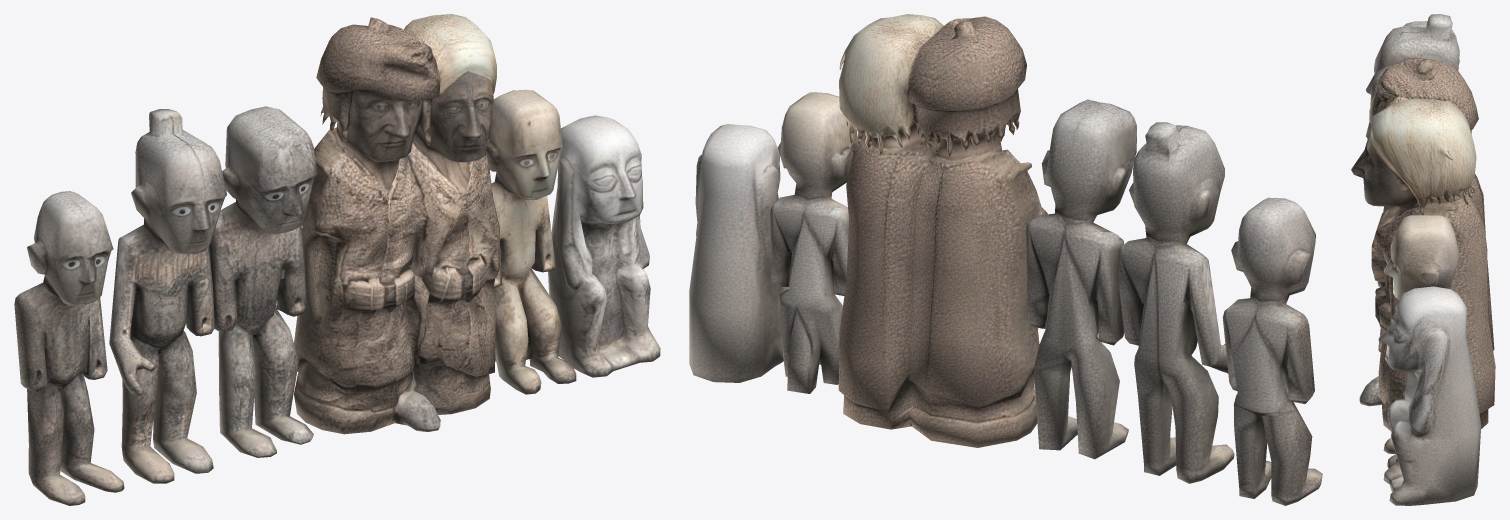
Rendered from papua.glb.
3 views of the same model, side by side, from view 1: azimuth 30°, elevation 25°; view 2: azimuth 150°, elevation 25°; view 3: azimuth 270°, elevation 25° (orthographic). The views are drawn at different scales.
Visible parts, largest first — view 1: tripo_node_40be4871-0594-4298-8c4a-cd686c88fd24; view 2: tripo_node_40be4871-0594-4298-8c4a-cd686c88fd24; view 3: tripo_node_40be4871-0594-4298-8c4a-cd686c88fd24.
Boxes of the visible parts, x1,y1,x2,y2 form: tripo_node_40be4871-0594-4298-8c4a-cd686c88fd24: (14,14,660,505); tripo_node_40be4871-0594-4298-8c4a-cd686c88fd24: (689,14,1322,505); tripo_node_40be4871-0594-4298-8c4a-cd686c88fd24: (1351,14,1495,505).
Size of the model in its own units: 0.998 by 0.6035 by 0.2363.
1 material, 1 textured.
